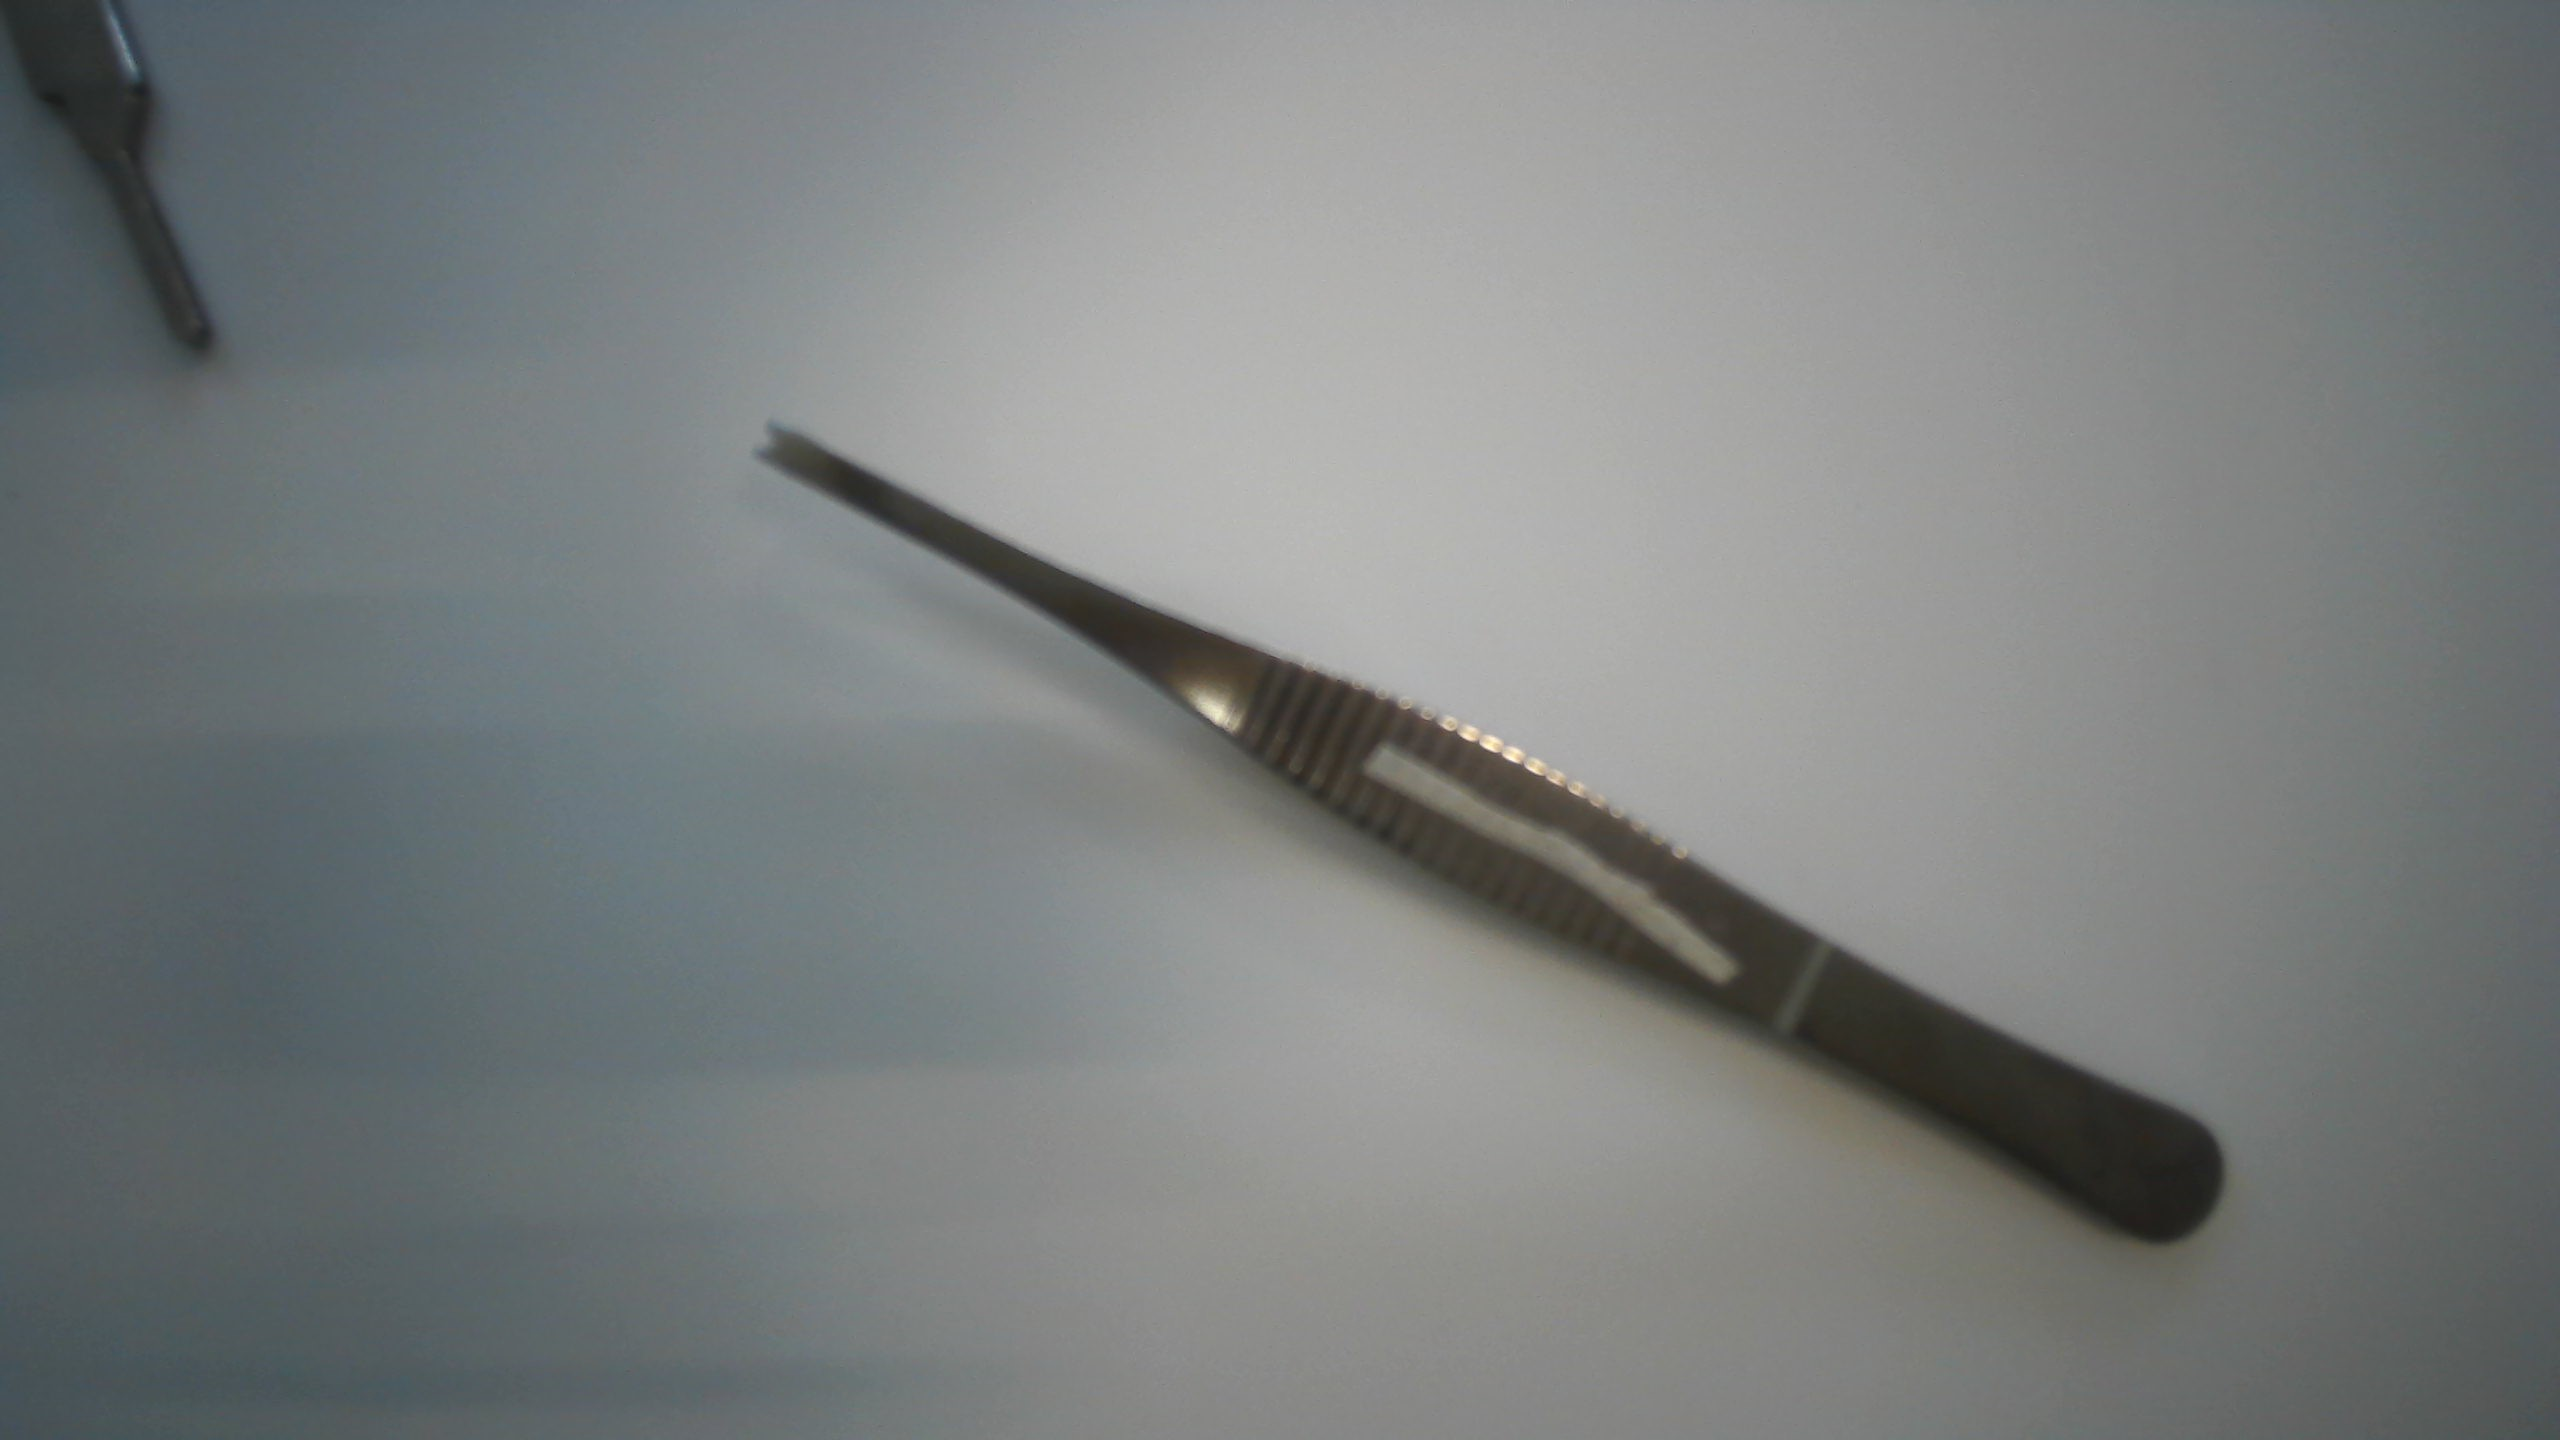Scratches: (1356, 737, 1744, 1002)
